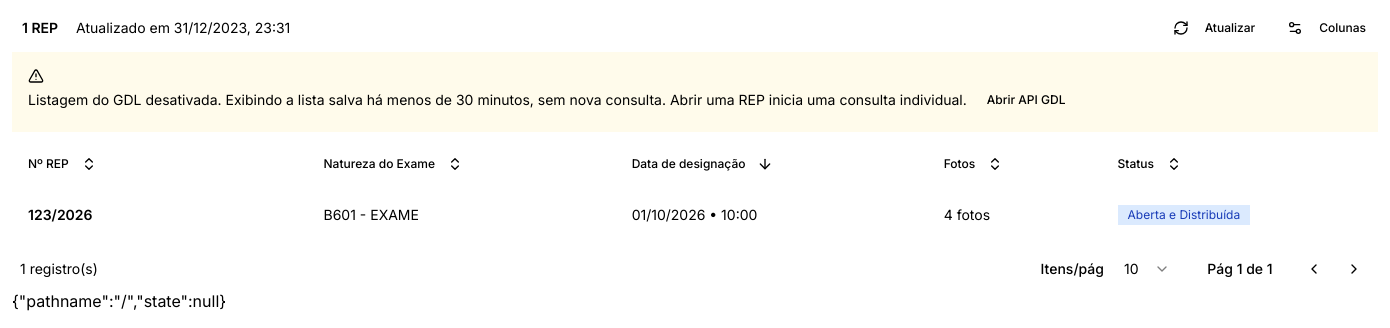
it: REPs do GDL no dashboard › mostra só cache recente quando a listagem está desativada e bloqueia atualizar
Expected: the text "sem nova consulta" is shown, [226,91,967,108]
Click the button "Atualizar": click(1214, 28) [1161,12,1267,44]
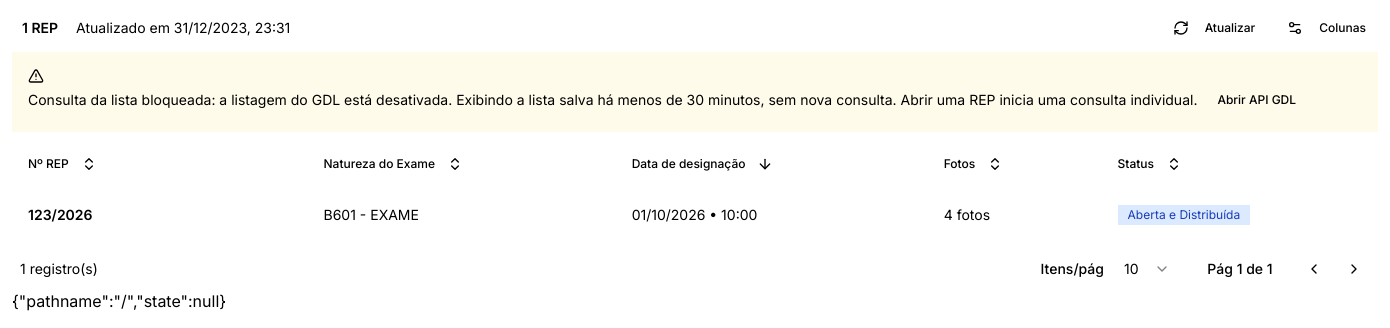
Now the text "Consulta da lista bloqueada" is shown, box [28,91,456,108]
Click the button "Abrir API GDL": click(1257, 100) [1205,84,1308,116]
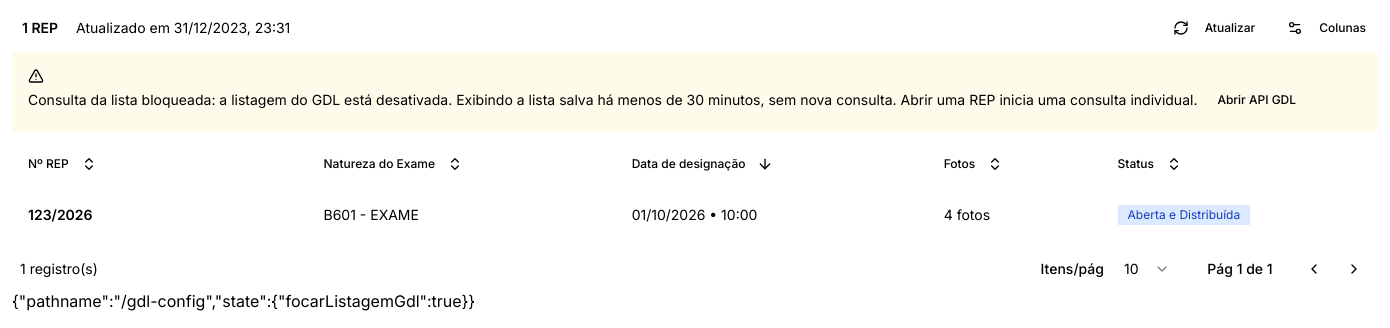
Now the text with test id "rota-atual" shows "gdl-config", box [12,291,475,311]
